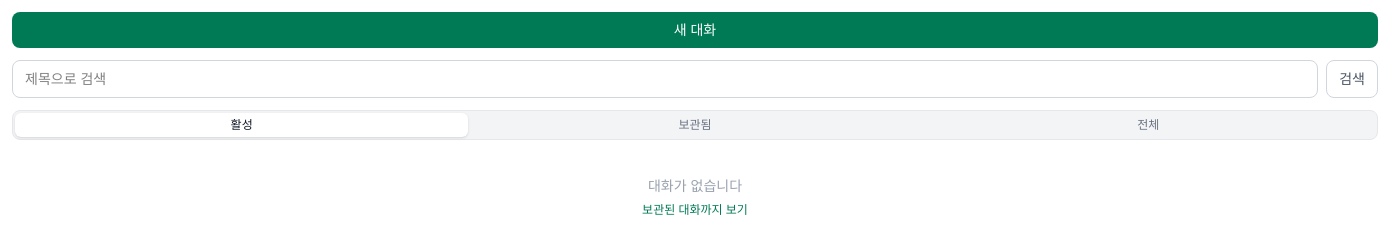
Scenario: 대화 목록 보관 › 활성 목록이 비면 보관된 대화까지 넓혀 재조회한다
The image size is (1390, 235).
Expected: the text "대화가 없습니다" is shown, [648, 177, 742, 194]
Click the button "보관된 대화까지 보기".
click(695, 210)  # box [642, 202, 748, 218]
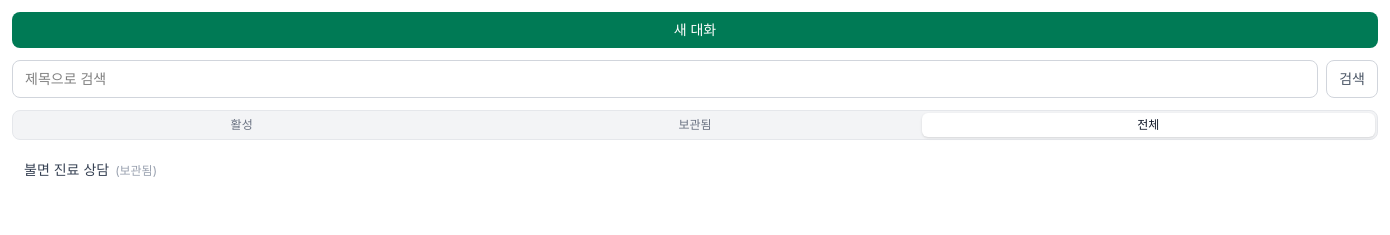
Result: the button "불면 진료 상담(보관됨)" is shown at [12, 152, 1378, 188]
